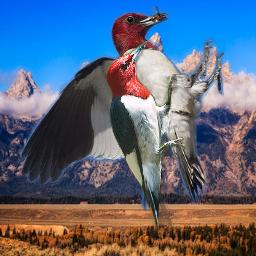Woodpecker: (20, 6, 224, 211), (105, 41, 185, 231)
